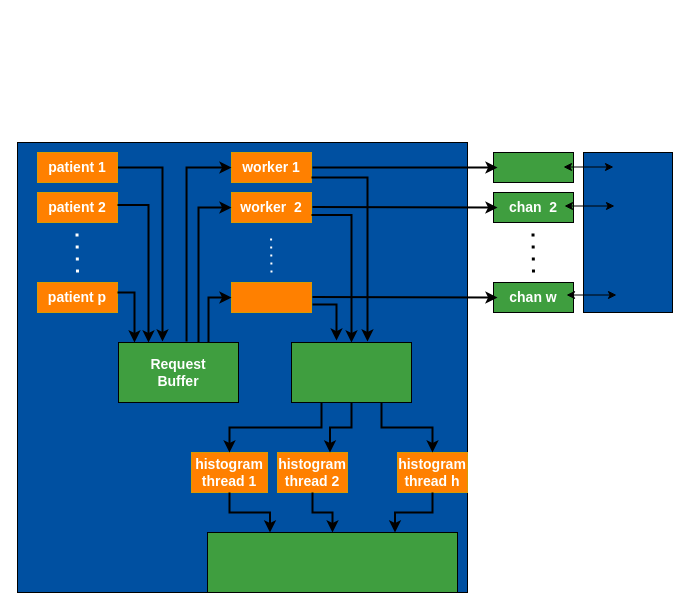
Some shapes in this 690 by 610 pixel diagram are drawn without their labels. The shapes that lost their labels are listed below. From the top down, each one's box as (x1, y1, x2, y2) in pixels, then its label:
(492, 152, 574, 182): chan 1
(582, 152, 672, 312): Server
(230, 282, 312, 312): worker w
(290, 342, 412, 402): Response Buffer
(206, 532, 458, 592): HistogramCollection hist1 hist2 .... hist p
